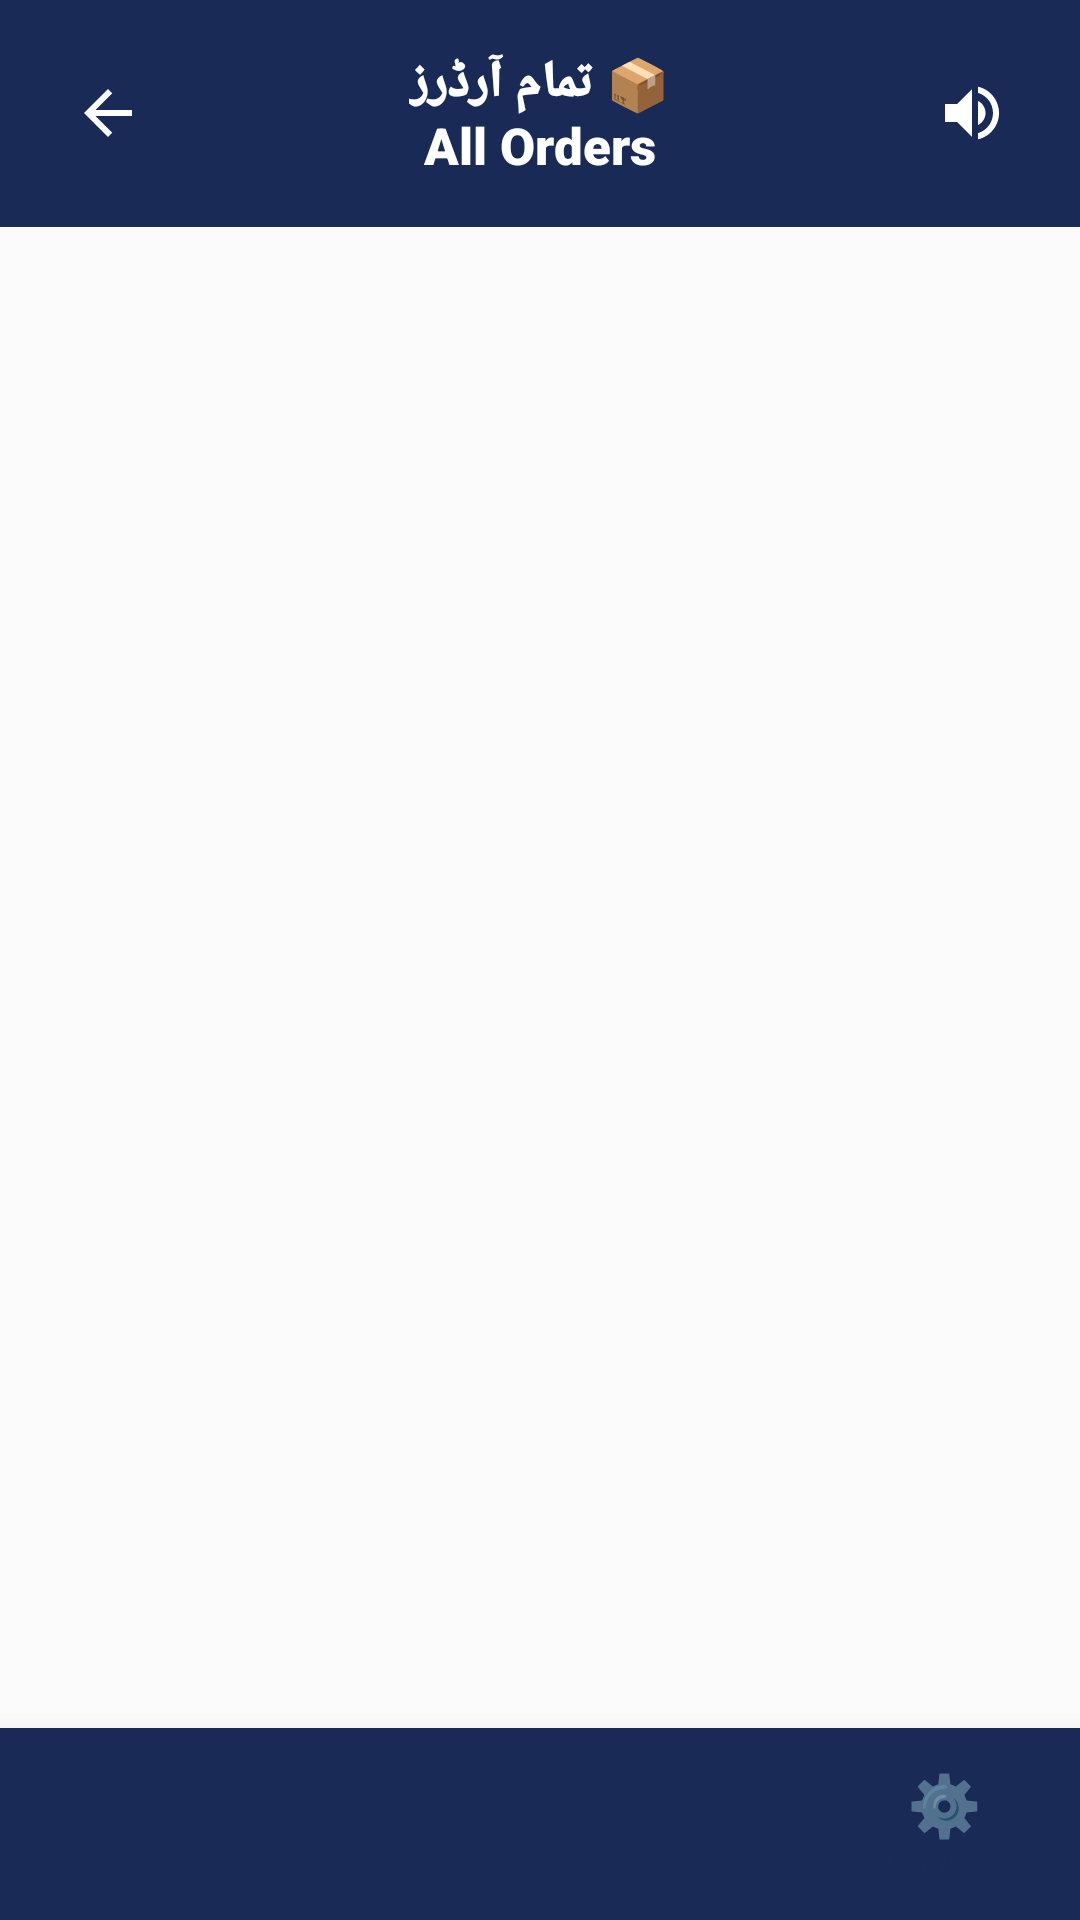

Icon bounding boxes for this 1080×1920 phone screenshot, format (x1, y1, x2, y2):
Back: (84, 89, 132, 137)
Speaker: (945, 86, 999, 140)
